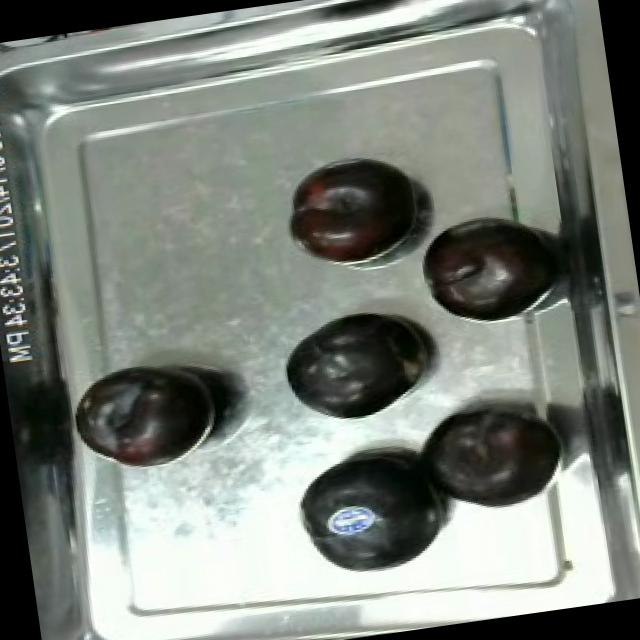Fruit: (287, 436, 460, 590), (268, 297, 440, 432), (69, 351, 232, 478), (411, 394, 571, 521), (276, 148, 423, 272), (414, 211, 550, 327)
